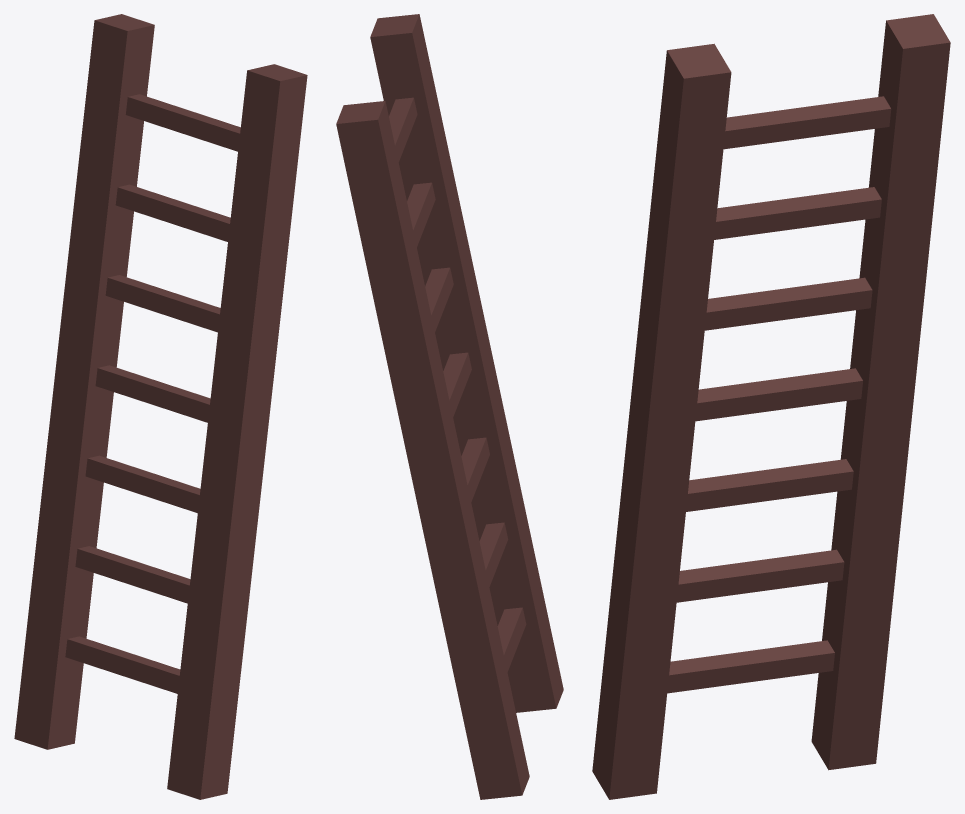
Rendered from ladder.fbx.
The picture shows the model from 3 angles, left to right: view 1: azimuth 30°, elevation 25°; view 2: azimuth 150°, elevation 25°; view 3: azimuth 270°, elevation 25°; orthographic projection. The views are drawn at different scales.
Parts seen in each view (by area): view 1: Cube.010; view 2: Cube.010; view 3: Cube.010.
Part boxes in pixels (x1,y1,x2,y2): Cube.010: (14,14,307,799); Cube.010: (336,14,563,799); Cube.010: (592,14,950,799).
Size of the model in its own units: 45 by 134 by 54.37.
